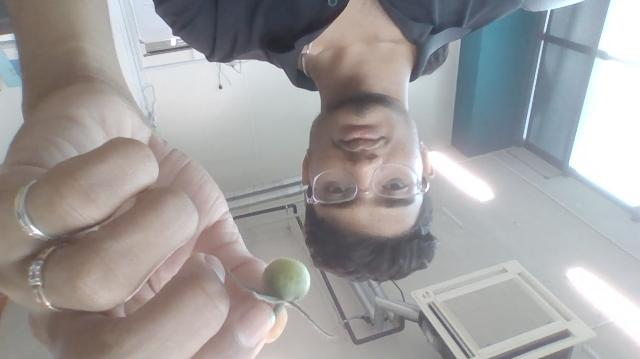Fruit Maturation: (261, 256, 311, 304)
